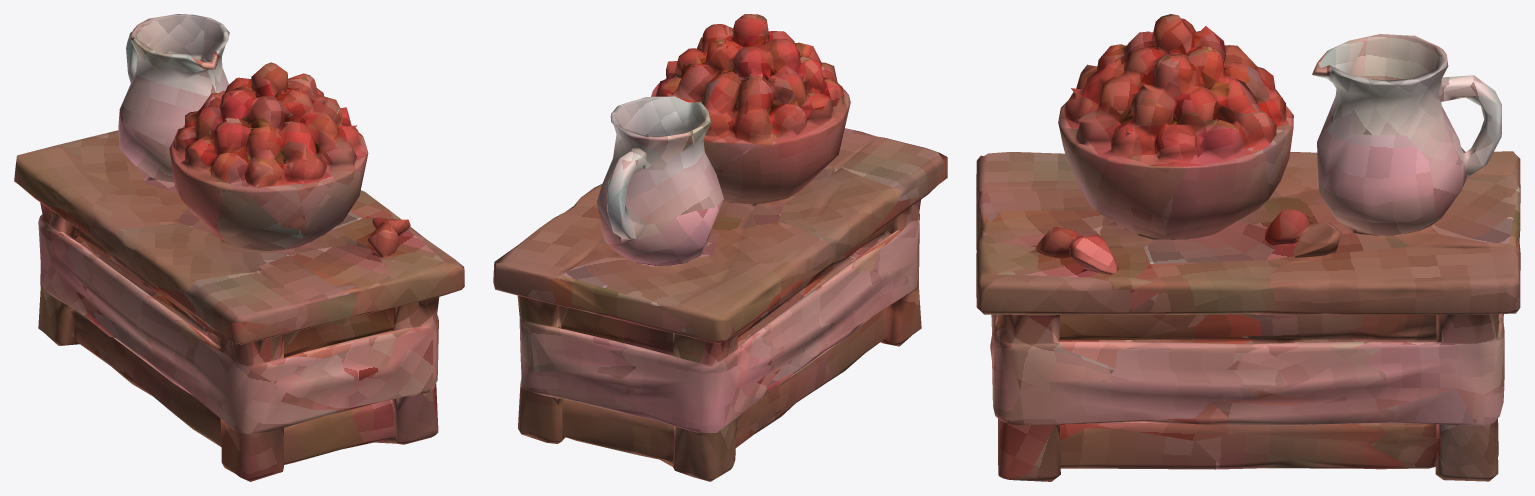
Rendered from KR_사물_s1_station_topping_t3.glb.
The picture shows the model from 3 angles, left to right: view 1: azimuth 30°, elevation 25°; view 2: azimuth 150°, elevation 25°; view 3: azimuth 270°, elevation 25°; orthographic projection. The views are drawn at different scales.
Parts seen in each view (by area): view 1: tripo_node_c995359b-689d-4461-ac4a-63fb7ead19fb; view 2: tripo_node_c995359b-689d-4461-ac4a-63fb7ead19fb; view 3: tripo_node_c995359b-689d-4461-ac4a-63fb7ead19fb.
Part boxes in pixels (x1,y1,x2,y2): tripo_node_c995359b-689d-4461-ac4a-63fb7ead19fb: [14, 14, 464, 481]; tripo_node_c995359b-689d-4461-ac4a-63fb7ead19fb: [493, 14, 947, 481]; tripo_node_c995359b-689d-4461-ac4a-63fb7ead19fb: [976, 14, 1520, 481].
Size of the model in its own units: 0.5898 by 0.8293 by 0.9997.
Materials: 1 (1 with a texture image).
